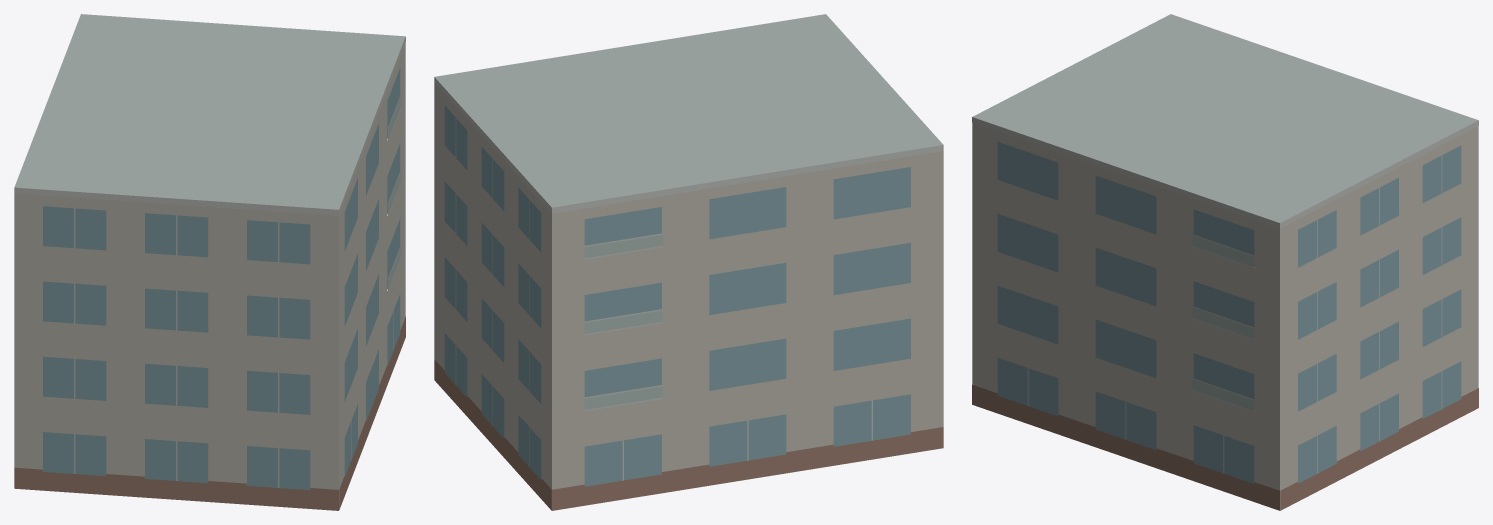
The model's file is residential-98d76f62-b915-4a51-8480-4476b9141885.glb.
The picture shows the model from 3 angles, left to right: view 1: azimuth 30°, elevation 25°; view 2: azimuth 150°, elevation 25°; view 3: azimuth 270°, elevation 25°; orthographic projection. The views are drawn at different scales.
Parts seen in each view (by area): view 1: residential-98d76f62-b915-4a51-8480-4476b9141885.tmp; view 2: residential-98d76f62-b915-4a51-8480-4476b9141885.tmp; view 3: residential-98d76f62-b915-4a51-8480-4476b9141885.tmp.
Boxes of the visible parts, x1,y1,x2,y2 form: residential-98d76f62-b915-4a51-8480-4476b9141885.tmp: (14,14,405,510); residential-98d76f62-b915-4a51-8480-4476b9141885.tmp: (434,14,943,510); residential-98d76f62-b915-4a51-8480-4476b9141885.tmp: (972,14,1478,510).
Size of the model in its own units: 19.03 by 12.2 by 19.48.
